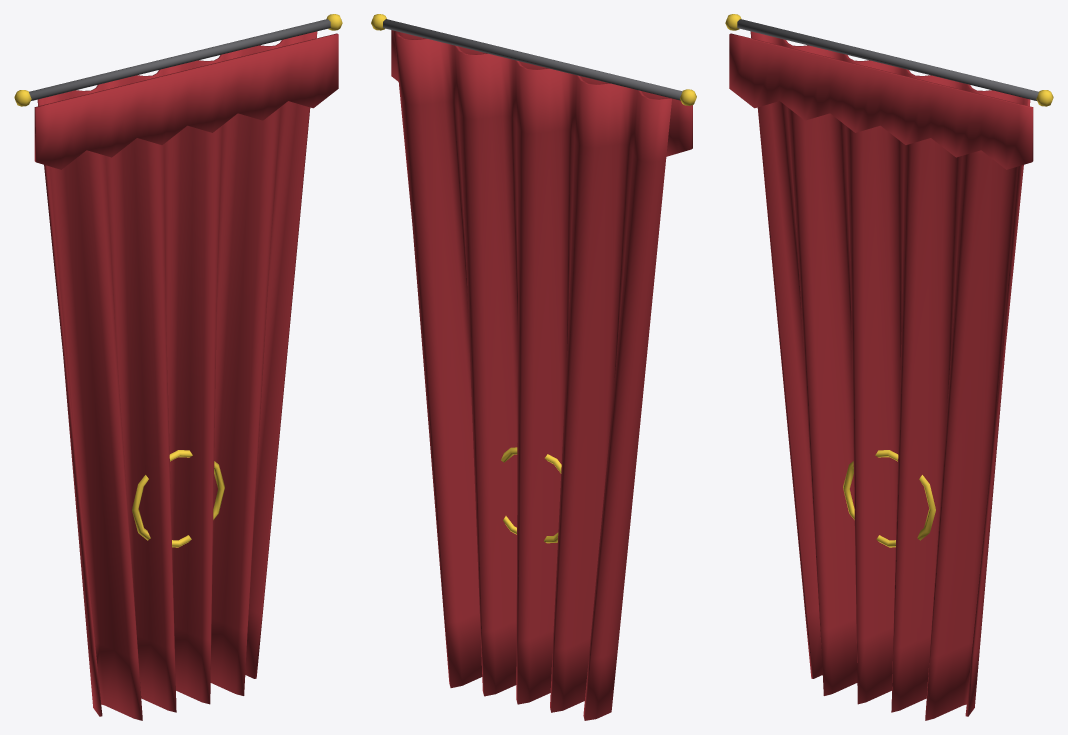
Rendered from Curtain.glb.
3 renders of one model, left to right at view 1: azimuth 30°, elevation 25°; view 2: azimuth 150°, elevation 25°; view 3: azimuth 330°, elevation 25°, orthographic.
Parts seen in each view (by area): view 1: Curtain_drape, Curtain_valance, Curtain_cyl, Curtain_torus; view 2: Curtain_drape, Curtain_cyl, Curtain_valance, Curtain_torus; view 3: Curtain_drape, Curtain_valance, Curtain_cyl, Curtain_torus.
Boxes of the visible parts, <box> form: Curtain_drape: <box>37,31,317,720</box>; Curtain_valance: <box>34,33,338,169</box>; Curtain_cyl: <box>29,19,330,100</box>; Curtain_torus: <box>132,450,224,547</box>; Curtain_drape: <box>394,31,671,720</box>; Curtain_cyl: <box>383,19,682,100</box>; Curtain_valance: <box>391,30,692,156</box>; Curtain_torus: <box>501,447,561,543</box>; Curtain_drape: <box>750,31,1030,720</box>; Curtain_valance: <box>729,33,1033,169</box>; Curtain_cyl: <box>737,19,1038,100</box>; Curtain_torus: <box>843,450,935,547</box>.
Bounding box in the file's own units: 3.78 × 7.14 × 0.63.
